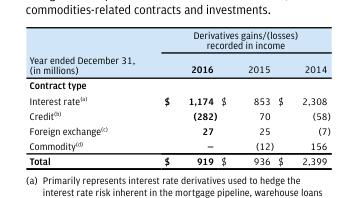table: (28, 28, 330, 166)
table column: (28, 28, 148, 166), (148, 28, 218, 166), (218, 28, 275, 166), (275, 28, 330, 166)
table column header: (28, 28, 330, 77)
table projected row header: (28, 77, 330, 92)
table row: (28, 28, 330, 56), (28, 56, 330, 77), (28, 122, 330, 138), (28, 77, 330, 92), (28, 92, 330, 107), (28, 107, 330, 122), (28, 138, 330, 153), (28, 153, 330, 166)
table spanning cell: (28, 28, 148, 77), (148, 28, 330, 56)
